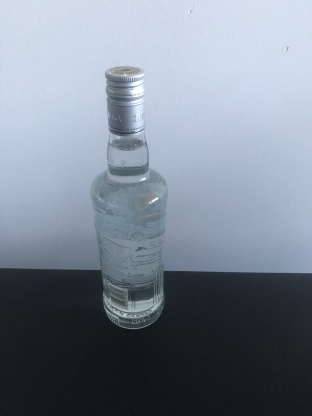nakretka: (104, 63, 147, 138)
